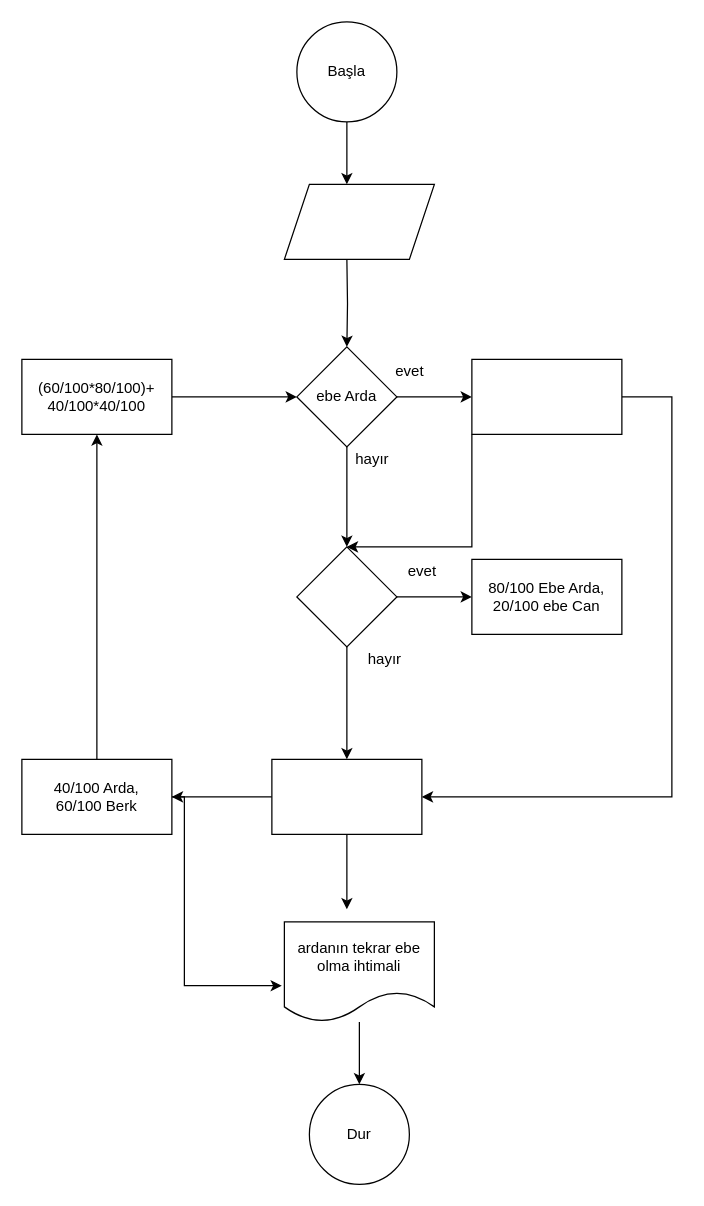
The diagram is 704 pixels wide and 1206 high, and some of its shapes have lost their labels. Each missing label, with the centre of its shape:
60/100 ebe berk, 40/100 ebe Can: (546,396)
ebe Berk: (346,596)
ebe CAN: (346,796)
yakala,ebe,3kişi: (358,221)
